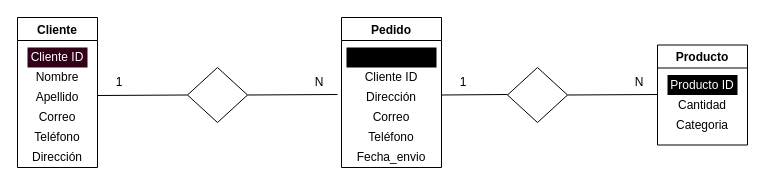
The diagram is 765 pixels wide and 185 high, and some of its shapes have lost their labels. Here are the shapes that lost their labels. From the top down, the centre of each, then its label:
At [391,57]: "numero_pedido".
At [217,94]: "Realiza".
At [537,94]: "Tiene".
